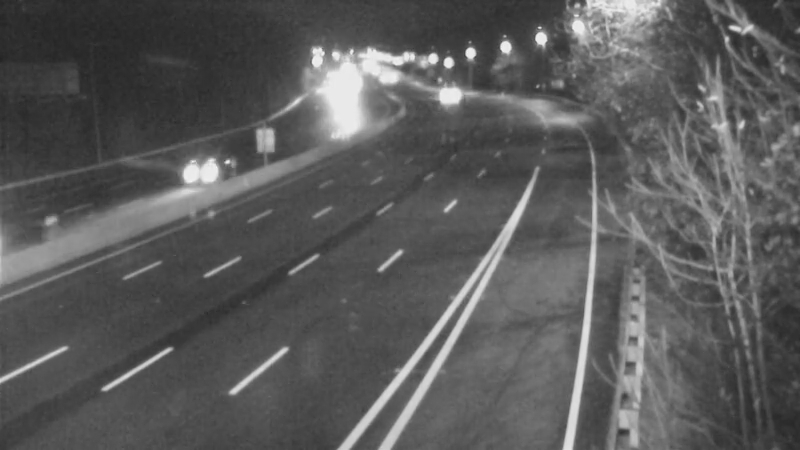vehicle: (161, 132, 241, 212), (1, 188, 70, 268), (419, 71, 469, 121)
